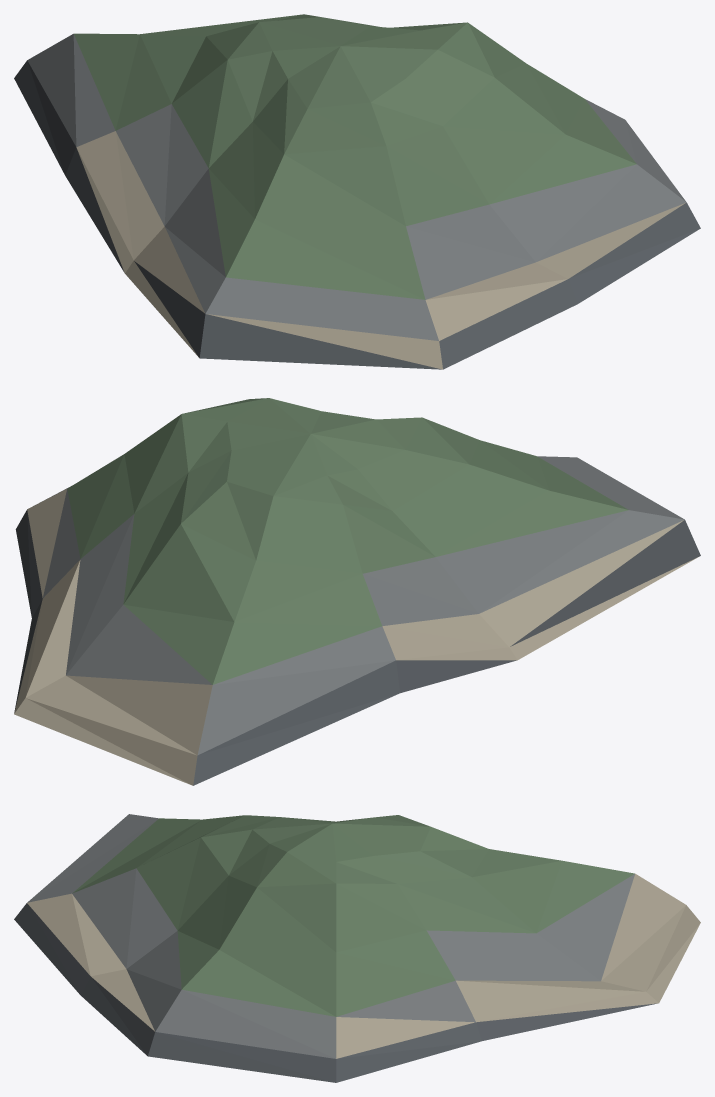
File: west_watch_lod1.glb
3 renders of one model, top to bottom at view 1: azimuth 30°, elevation 25°; view 2: azimuth 150°, elevation 25°; view 3: azimuth 270°, elevation 25°, orthographic. The views are drawn at different scales.
Bounding box in the file's own units: 1.94 × 0.5782 × 2.46.
